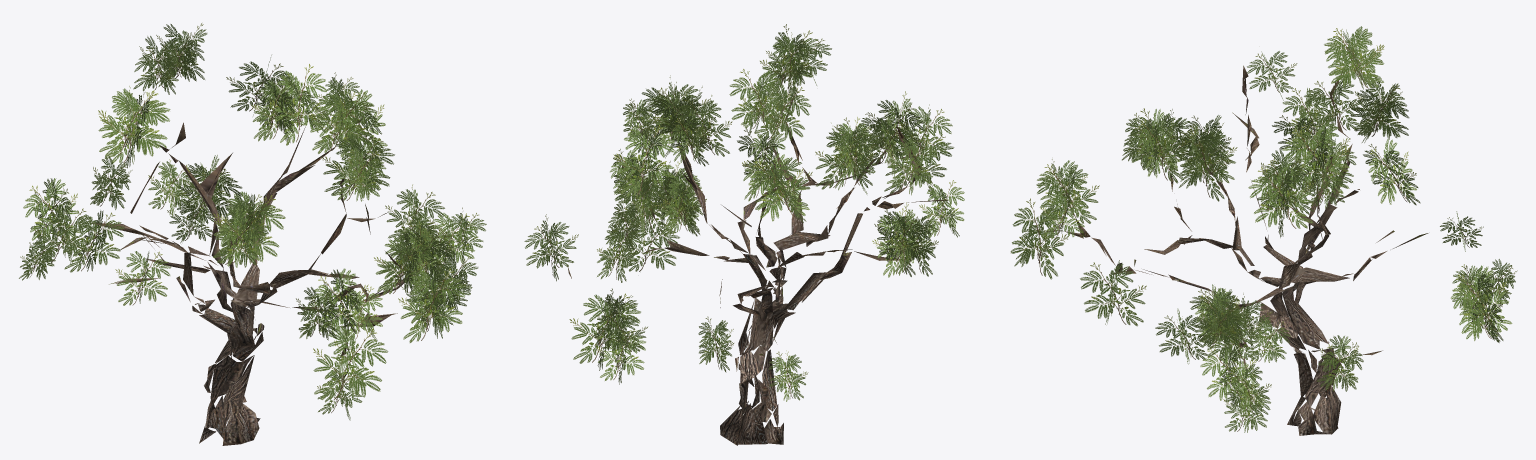
Rendered from mesquite.glb.
3 renders of one model, left to right at view 1: azimuth 30°, elevation 25°; view 2: azimuth 150°, elevation 25°; view 3: azimuth 270°, elevation 25°, orthographic. The views are drawn at different scales.
Parts seen in each view (by area): view 1: cards, LO.001; view 2: cards, LO.001; view 3: cards, LO.001.
Boxes of the visible parts, x1,y1,x2,y2 form: cards: (19, 23, 486, 420); LO.001: (39, 122, 425, 445); cards: (524, 24, 964, 401); LO.001: (567, 97, 948, 445); cards: (1010, 26, 1517, 432); LO.001: (1045, 65, 1428, 435).
Size of the model in its own units: 0.8719 by 0.802 by 0.9894.
Materials: 2 (2 with a texture image).
